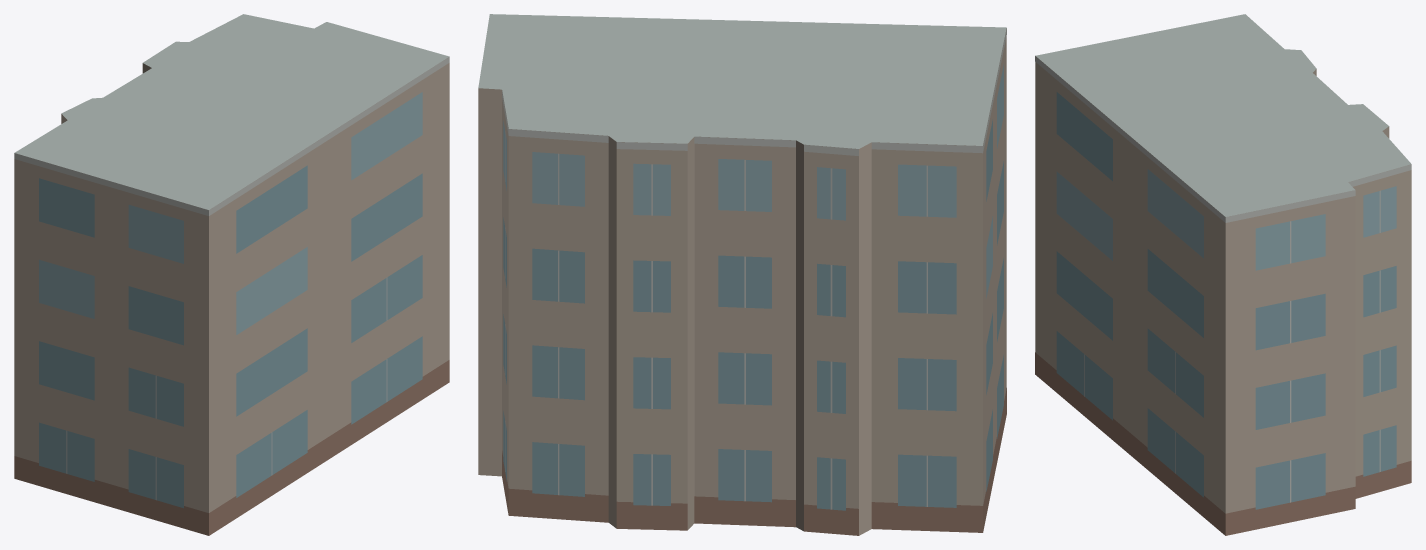
The model's file is survey-upis-32629493.glb.
The picture shows the model from 3 angles, left to right: view 1: azimuth 30°, elevation 25°; view 2: azimuth 150°, elevation 25°; view 3: azimuth 270°, elevation 25°; orthographic projection. The views are drawn at different scales.
Parts seen in each view (by area): view 1: survey-upis-32629493.tmp; view 2: survey-upis-32629493.tmp; view 3: survey-upis-32629493.tmp.
Part boxes in pixels (box(x1,y1,x2,y2)): survey-upis-32629493.tmp: box(14, 14, 449, 535); survey-upis-32629493.tmp: box(478, 14, 1006, 535); survey-upis-32629493.tmp: box(1035, 14, 1411, 535).
Size of the model in its own units: 18.05 by 13.2 by 14.14.
